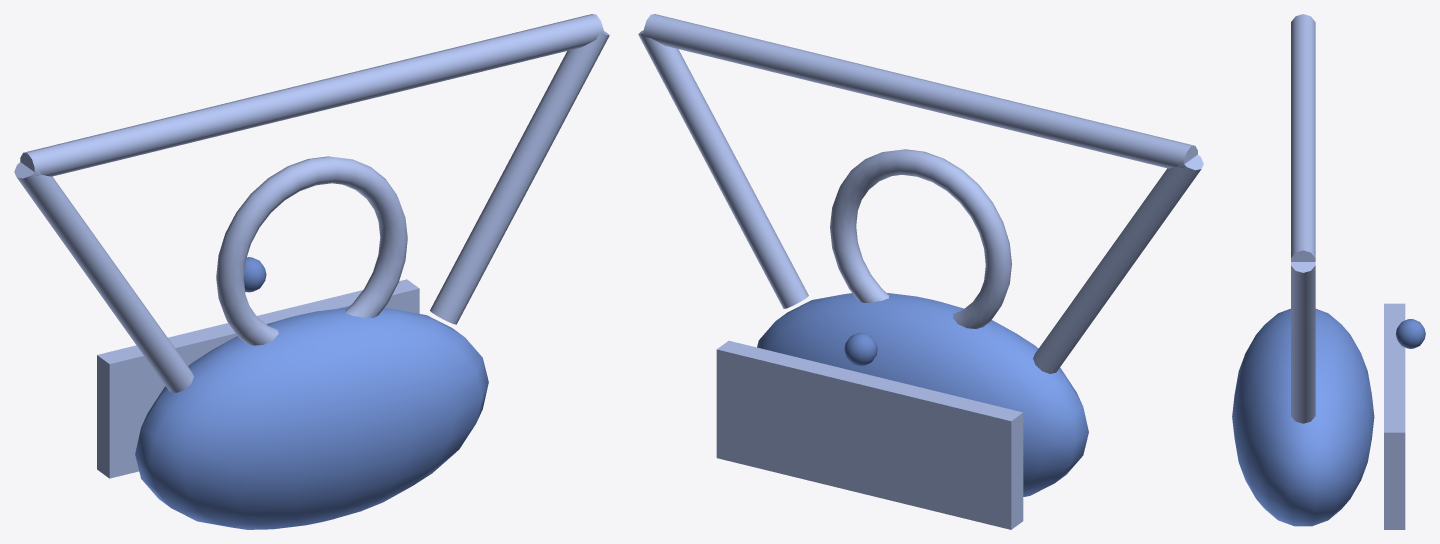
The model's file is VM-ACC-EXT173.glb.
The picture shows the model from 3 angles, left to right: view 1: azimuth 30°, elevation 25°; view 2: azimuth 150°, elevation 25°; view 3: azimuth 270°, elevation 25°; orthographic projection. The views are drawn at different scales.
Visible parts, largest first — view 1: Bolso de Cuero Heshe para Mujer; view 2: Bolso de Cuero Heshe para Mujer; view 3: Bolso de Cuero Heshe para Mujer.
Boxes of the visible parts, x1,y1,x2,y2 form: Bolso de Cuero Heshe para Mujer: (14, 14, 609, 529); Bolso de Cuero Heshe para Mujer: (638, 14, 1203, 529); Bolso de Cuero Heshe para Mujer: (1232, 14, 1425, 529).
Bounding box in the file's own units: 0.5673 × 0.3976 × 0.1892.
